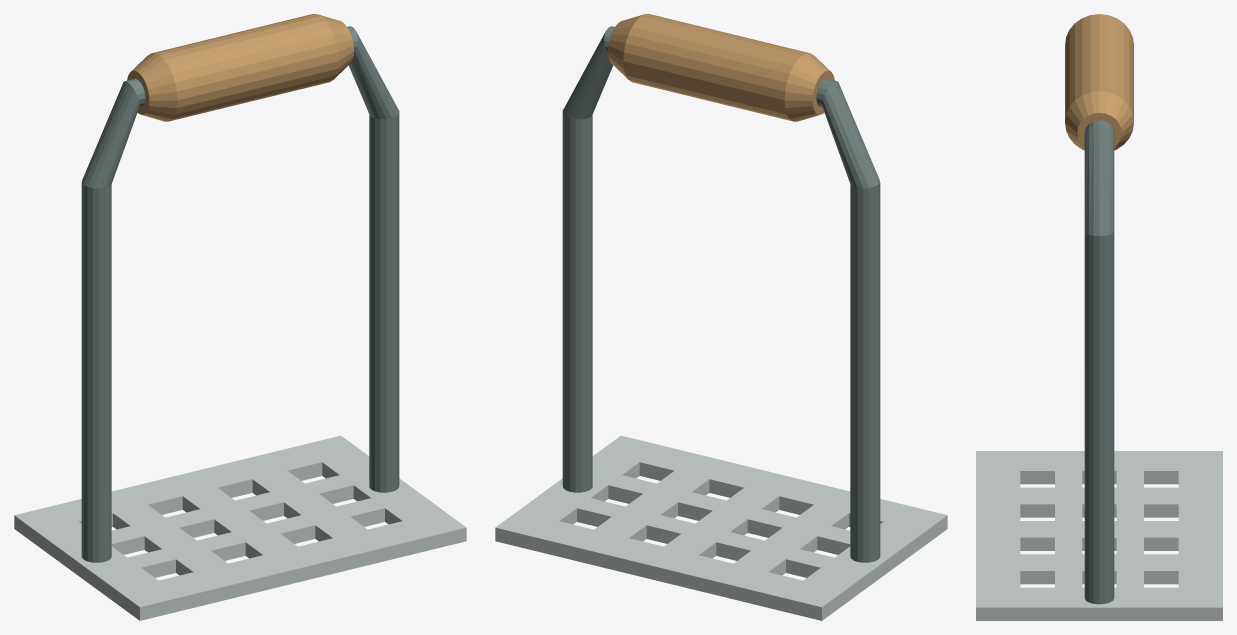
The picture shows the model from 3 angles, left to right: view 1: azimuth 30°, elevation 25°; view 2: azimuth 150°, elevation 25°; view 3: azimuth 270°, elevation 25°; orthographic projection.
Parts seen in each view (by area): view 1: WholeContinuousTwelveApertureFlatPlate, WholeContinuousUprightUGripSupport, WholeUpperCrossbarGrip; view 2: WholeContinuousTwelveApertureFlatPlate, WholeContinuousUprightUGripSupport, WholeUpperCrossbarGrip; view 3: WholeContinuousTwelveApertureFlatPlate, WholeContinuousUprightUGripSupport, WholeUpperCrossbarGrip.
Part boxes in pixels (x1=…): WholeContinuousTwelveApertureFlatPlate: x1=14, y1=435, x2=466, y2=620; WholeContinuousUprightUGripSupport: x1=81, y1=26, x2=399, y2=562; WholeUpperCrossbarGrip: x1=127, y1=14, x2=353, y2=121; WholeContinuousTwelveApertureFlatPlate: x1=495, y1=435, x2=947, y2=620; WholeContinuousUprightUGripSupport: x1=562, y1=26, x2=880, y2=562; WholeUpperCrossbarGrip: x1=608, y1=14, x2=834, y2=121; WholeContinuousTwelveApertureFlatPlate: x1=976, y1=451, x2=1222, y2=620; WholeContinuousUprightUGripSupport: x1=1084, y1=120, x2=1114, y2=604; WholeUpperCrossbarGrip: x1=1065, y1=14, x2=1133, y2=150.
Bounding box in the file's own units: 0.15 × 0.219 × 0.1.
